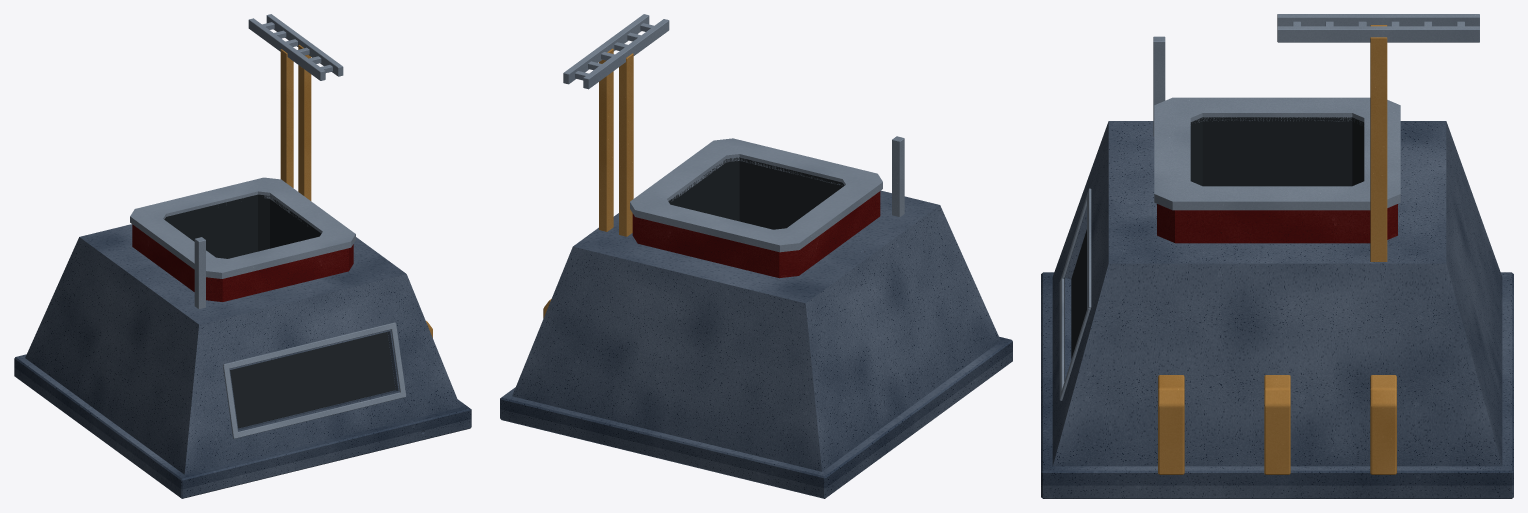
The picture shows the model from 3 angles, left to right: view 1: azimuth 30°, elevation 25°; view 2: azimuth 150°, elevation 25°; view 3: azimuth 270°, elevation 25°; orthographic projection. The views are drawn at different scales.
Parts seen in each view (by area): view 1: Attack Pods low truncated square cast body, Attack Pods grounded rectangular foot, Attack Pods front blind backing, Attack Pods pale upper well lip, Attack Pods pale supported assemblies, Attack Pods dark deep well lining, Attack Pods raised red well band, Attack Pods five source brass assemblies; view 2: Attack Pods low truncated square cast body, Attack Pods grounded rectangular foot, Attack Pods pale upper well lip, Attack Pods dark deep well lining, Attack Pods raised red well band, Attack Pods five source brass assemblies, Attack Pods pale supported assemblies; view 3: Attack Pods low truncated square cast body, Attack Pods grounded rectangular foot, Attack Pods pale upper well lip, Attack Pods five source brass assemblies, Attack Pods dark deep well lining, Attack Pods pale supported assemblies, Attack Pods raised red well band, Attack Pods front blind backing.
Part boxes in pixels (<box>): Attack Pods low truncated square cast body: <box>25,224,460,474</box>; Attack Pods grounded rectangular foot: <box>14,354,471,498</box>; Attack Pods front blind backing: <box>230,332,395,428</box>; Attack Pods pale upper well lip: <box>130,177,355,278</box>; Attack Pods pale supported assemblies: <box>194,14,405,438</box>; Attack Pods dark deep well lining: <box>164,194,321,258</box>; Attack Pods raised red well band: <box>132,224,353,301</box>; Attack Pods five source brass assemblies: <box>280,45,432,337</box>; Attack Pods low truncated square cast body: <box>512,190,1000,471</box>; Attack Pods grounded rectangular foot: <box>500,336,1012,498</box>; Attack Pods pale upper well lip: <box>630,138,882,252</box>; Attack Pods dark deep well lining: <box>668,157,844,229</box>; Attack Pods raised red well band: <box>632,191,880,278</box>; Attack Pods five source brass assemblies: <box>543,48,633,318</box>; Attack Pods pale supported assemblies: <box>563,14,904,216</box>; Attack Pods low truncated square cast body: <box>1052,121,1502,466</box>; Attack Pods grounded rectangular foot: <box>1041,272,1513,498</box>; Attack Pods pale upper well lip: <box>1154,97,1400,210</box>; Attack Pods five source brass assemblies: <box>1158,25,1396,474</box>; Attack Pods dark deep well lining: <box>1190,117,1364,186</box>; Attack Pods pale supported assemblies: <box>1059,14,1479,400</box>; Attack Pods raised red well band: <box>1157,204,1397,243</box>; Attack Pods front blind backing: <box>1071,229,1086,359</box>.
Bounding box in the file's own units: 1.98 × 2.01 × 1.96.
5 materials, 4 textured.
